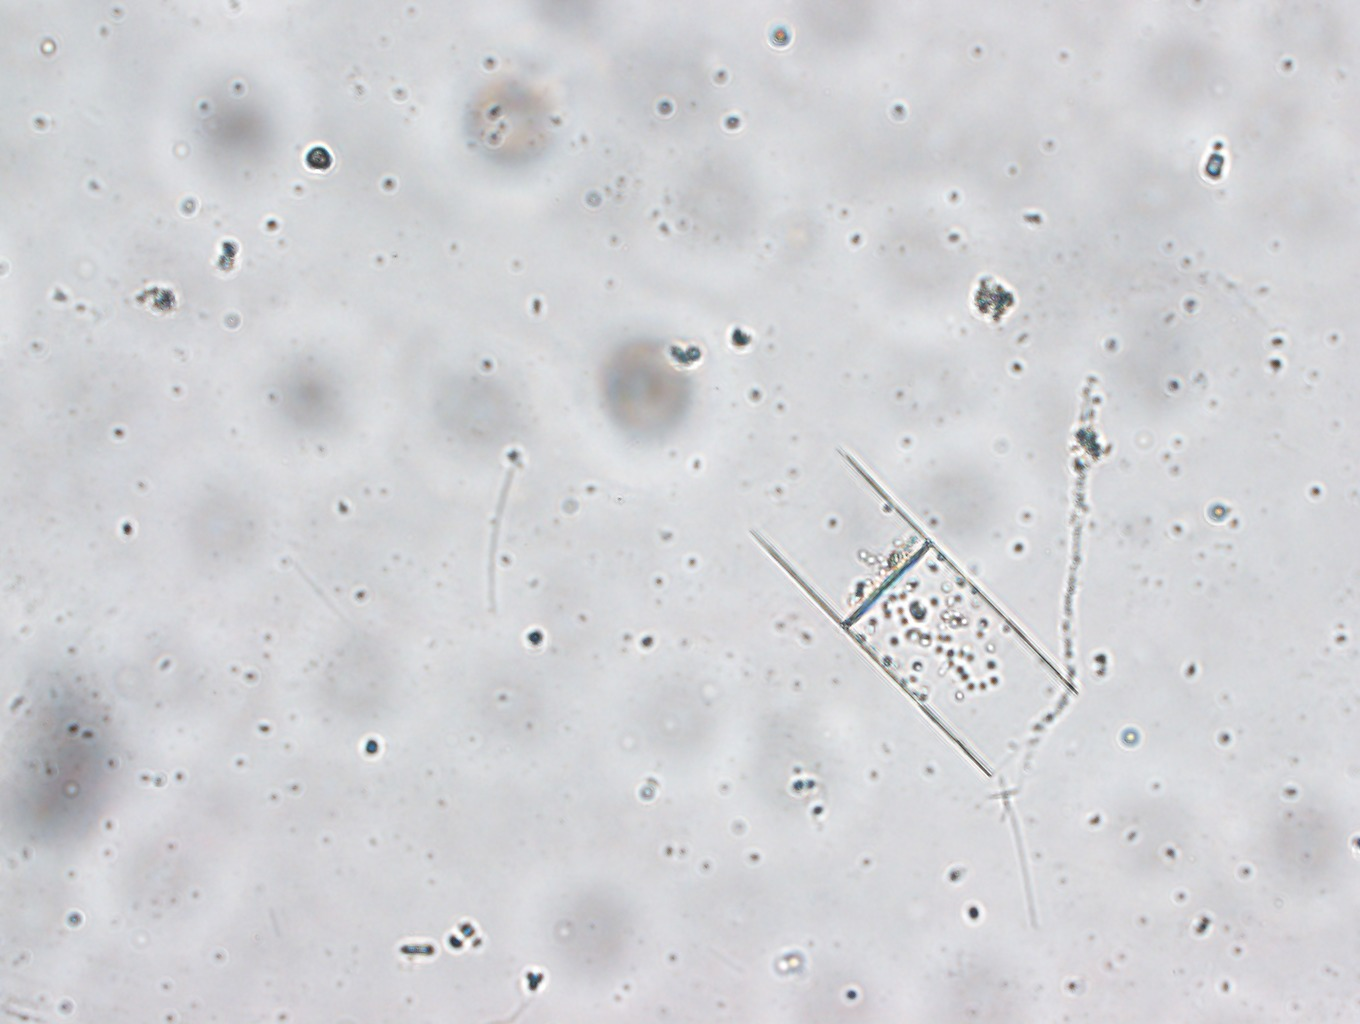guinardia flaccida: (745, 442, 1079, 783)
